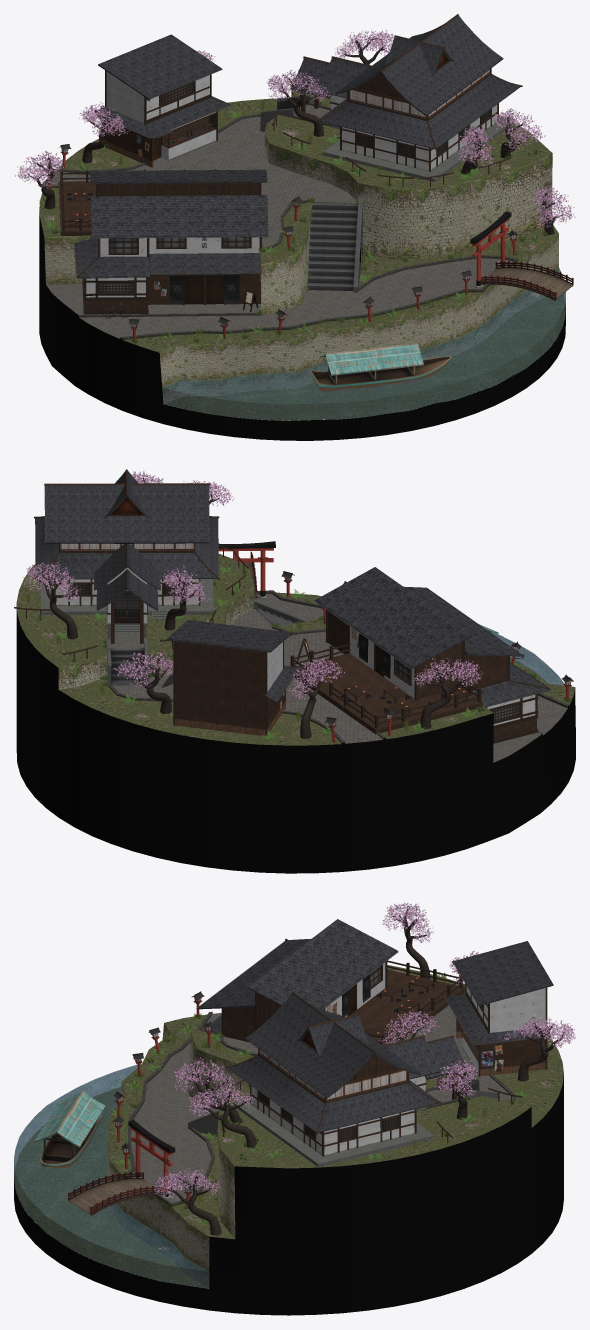
The model's file is kyoto_japan.glb.
3 renders of one model, top to bottom at view 1: azimuth 30°, elevation 25°; view 2: azimuth 150°, elevation 25°; view 3: azimuth 270°, elevation 25°, orthographic. The views are drawn at different scales.
Visible parts, largest first — view 1: SM_PedestalRound, SM_Dojo, SM_TeaShop_Roof Material_0, SM_WeaponShop, SM_TeaShop_Wood Plank/Wall_0, Long Stair_Long Stair_0, Boat, SM_TeaShop_Unique_0, SM_TeaShop_Wood_0, SM_TeaShop_Wall Material_0, Bridge_Bridge_0, Tree005 (+9 smaller); view 2: SM_PedestalRound, SM_Dojo, SM_WeaponShop, SM_TeaShop_Roof Material_0, SM_TeaShop_Wood Plank/Wall_0, SM_TeaShop_Wood_0, Tree008, Tree004, Tree003, Tree002, Short Stair_Short Stair_0, Tree005 (+5 smaller); view 3: SM_PedestalRound, SM_Dojo, SM_WeaponShop, SM_TeaShop_Roof Material_0, SM_TeaShop_Wood Plank/Wall_0, Boat, Bridge_Bridge_0, Tree001, Tree007, Tree003, Tree, Tree008 (+6 smaller).
Part boxes in pixels (box(x1,y1,x2,y2)): SM_PedestalRound: box(39, 77, 565, 440); SM_Dojo: box(290, 14, 522, 182); SM_TeaShop_Roof Material_0: box(75, 169, 268, 277); SM_WeaponShop: box(98, 34, 231, 167); SM_TeaShop_Wood Plank/Wall_0: box(58, 181, 260, 310); Long Stair_Long Stair_0: box(307, 197, 362, 292); Boat: box(310, 343, 451, 392); SM_TeaShop_Unique_0: box(98, 237, 250, 304); SM_TeaShop_Wood_0: box(60, 169, 261, 314); SM_TeaShop_Wall Material_0: box(86, 237, 259, 297); Bridge_Bridge_0: box(481, 261, 573, 300); Tree005: box(267, 69, 330, 136); SM_PedestalRound: box(16, 553, 575, 873); SM_Dojo: box(34, 469, 219, 643); SM_WeaponShop: box(161, 620, 300, 736); SM_TeaShop_Roof Material_0: box(315, 567, 549, 706); SM_TeaShop_Wood Plank/Wall_0: box(294, 611, 536, 739); SM_TeaShop_Wood_0: box(290, 610, 548, 743); Tree008: box(413, 658, 483, 728); Tree004: box(21, 562, 81, 639); Tree003: box(114, 650, 173, 713); Tree002: box(288, 657, 345, 738); Short Stair_Short Stair_0: box(106, 638, 148, 685); Tree005: box(161, 566, 210, 630); SM_PedestalRound: box(14, 965, 563, 1315); SM_Dojo: box(225, 991, 466, 1167); SM_WeaponShop: box(444, 941, 553, 1076); SM_TeaShop_Roof Material_0: box(197, 919, 397, 1034); SM_TeaShop_Wood Plank/Wall_0: box(224, 969, 464, 1044); Boat: box(34, 1091, 105, 1168); Bridge_Bridge_0: box(68, 1171, 163, 1215); Tree001: box(186, 1082, 257, 1148); Tree007: box(153, 1167, 221, 1235); Tree003: box(513, 1014, 575, 1081); Tree: box(173, 1057, 241, 1124); Tree008: box(379, 902, 433, 979).
Size of the model in its own units: 35.79 by 17.52 by 35.76.
Materials: 44 (43 with a texture image).
